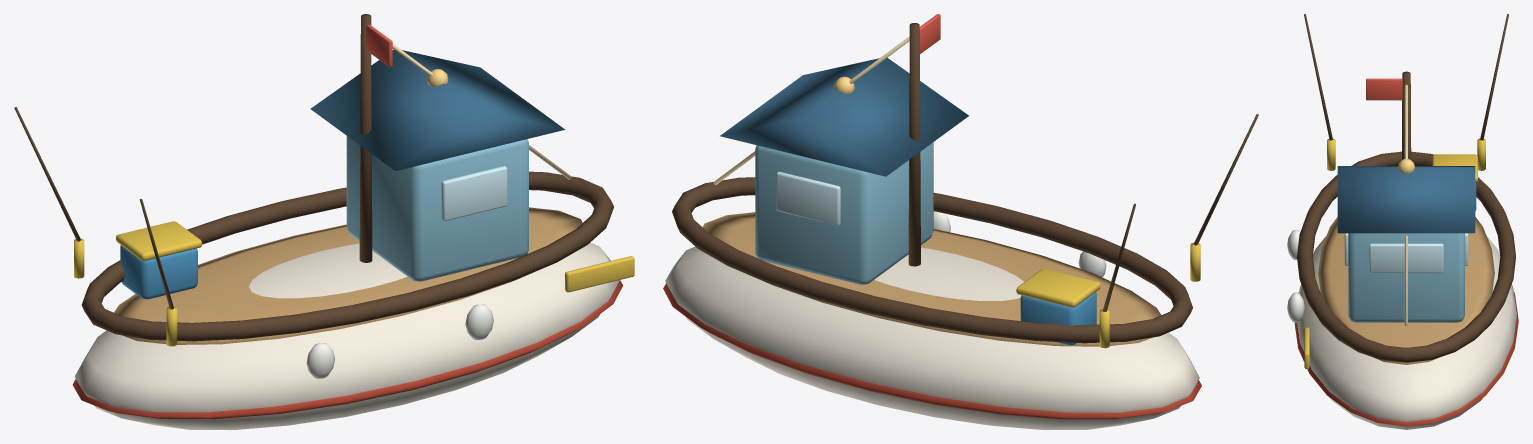
File: fish-boat.glb
3 views of the same model, side by side, from view 1: azimuth 30°, elevation 25°; view 2: azimuth 150°, elevation 25°; view 3: azimuth 270°, elevation 25° (orthographic). The views are drawn at different scales.
Parts seen in each view (by area): view 1: hull, cabin, aft, mast; view 2: hull, cabin, aft, mast; view 3: hull, cabin, aft, mast.
Boxes of the visible parts, x1,y1,x2,y2 form: hull: (72,171,634,429); cabin: (310,50,565,281); aft: (14,107,202,346); mast: (359,14,571,262); hull: (663,177,1201,429); cabin: (720,57,968,284); aft: (1016,114,1258,348); mast: (713,14,940,266); hull: (1287,151,1518,429); cabin: (1337,159,1475,322); aft: (1304,14,1508,211); mast: (1366,71,1411,326).
Size of the model in its own units: 2.84 by 1.87 by 1.31.
